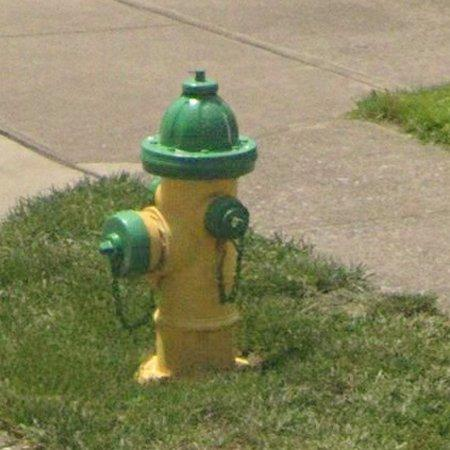a fire hydrant: (101, 70, 257, 383)
